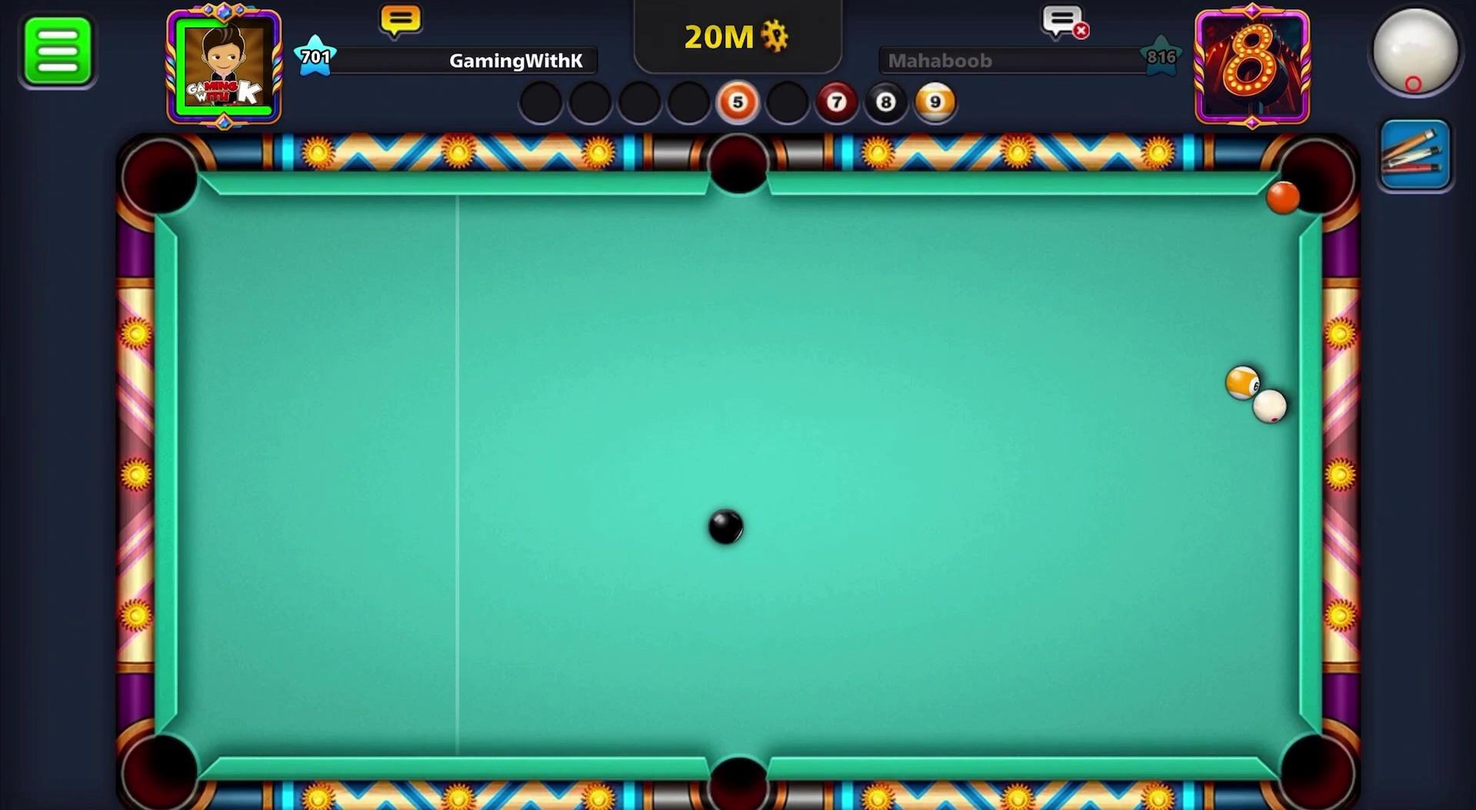Ball: (1224, 357, 1263, 407), (704, 506, 745, 549)
Hole: (108, 130, 214, 231), (1267, 132, 1365, 231), (110, 717, 212, 809), (1264, 717, 1364, 809), (685, 734, 785, 809), (703, 127, 774, 204)
Play_Area: (178, 193, 1297, 762)
Spin: (1345, 0, 1475, 118)
White: (1251, 382, 1291, 431)
